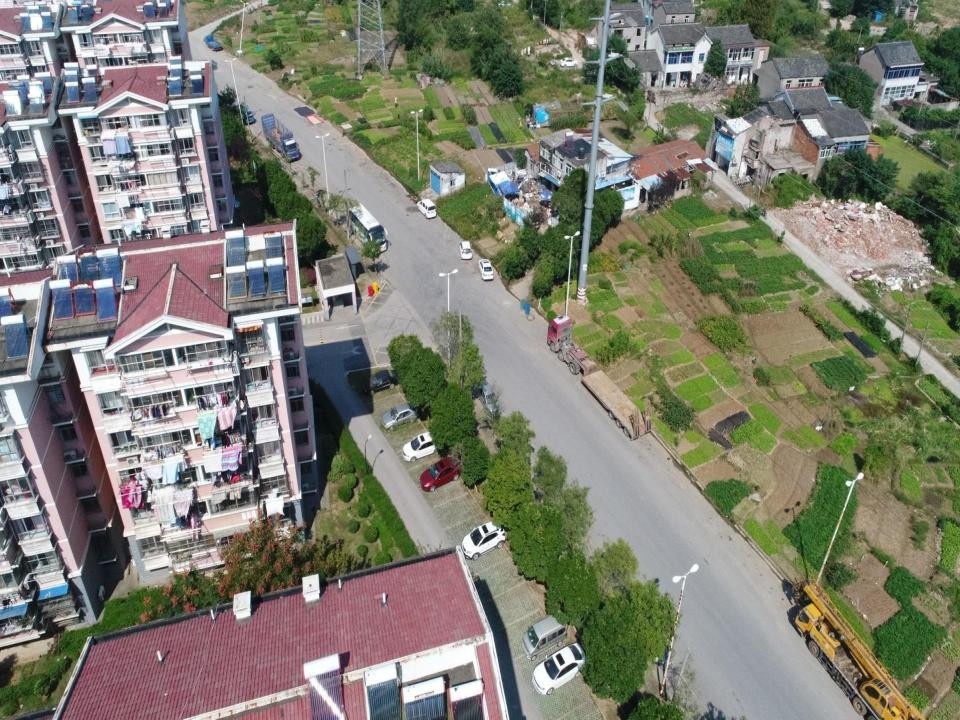bus: (348, 202, 388, 254), (239, 106, 254, 124)
car: (532, 641, 587, 695), (460, 518, 506, 561), (418, 455, 464, 493), (402, 427, 449, 463), (382, 402, 419, 433), (362, 369, 400, 396), (649, 622, 668, 666), (478, 258, 494, 280), (458, 238, 472, 260), (221, 92, 236, 111), (222, 198, 241, 211), (560, 56, 578, 68), (497, 0, 512, 8)
truck: (546, 314, 652, 441), (260, 113, 300, 162), (203, 33, 222, 51)
van: (521, 611, 568, 661), (475, 378, 502, 417), (417, 198, 436, 218)
